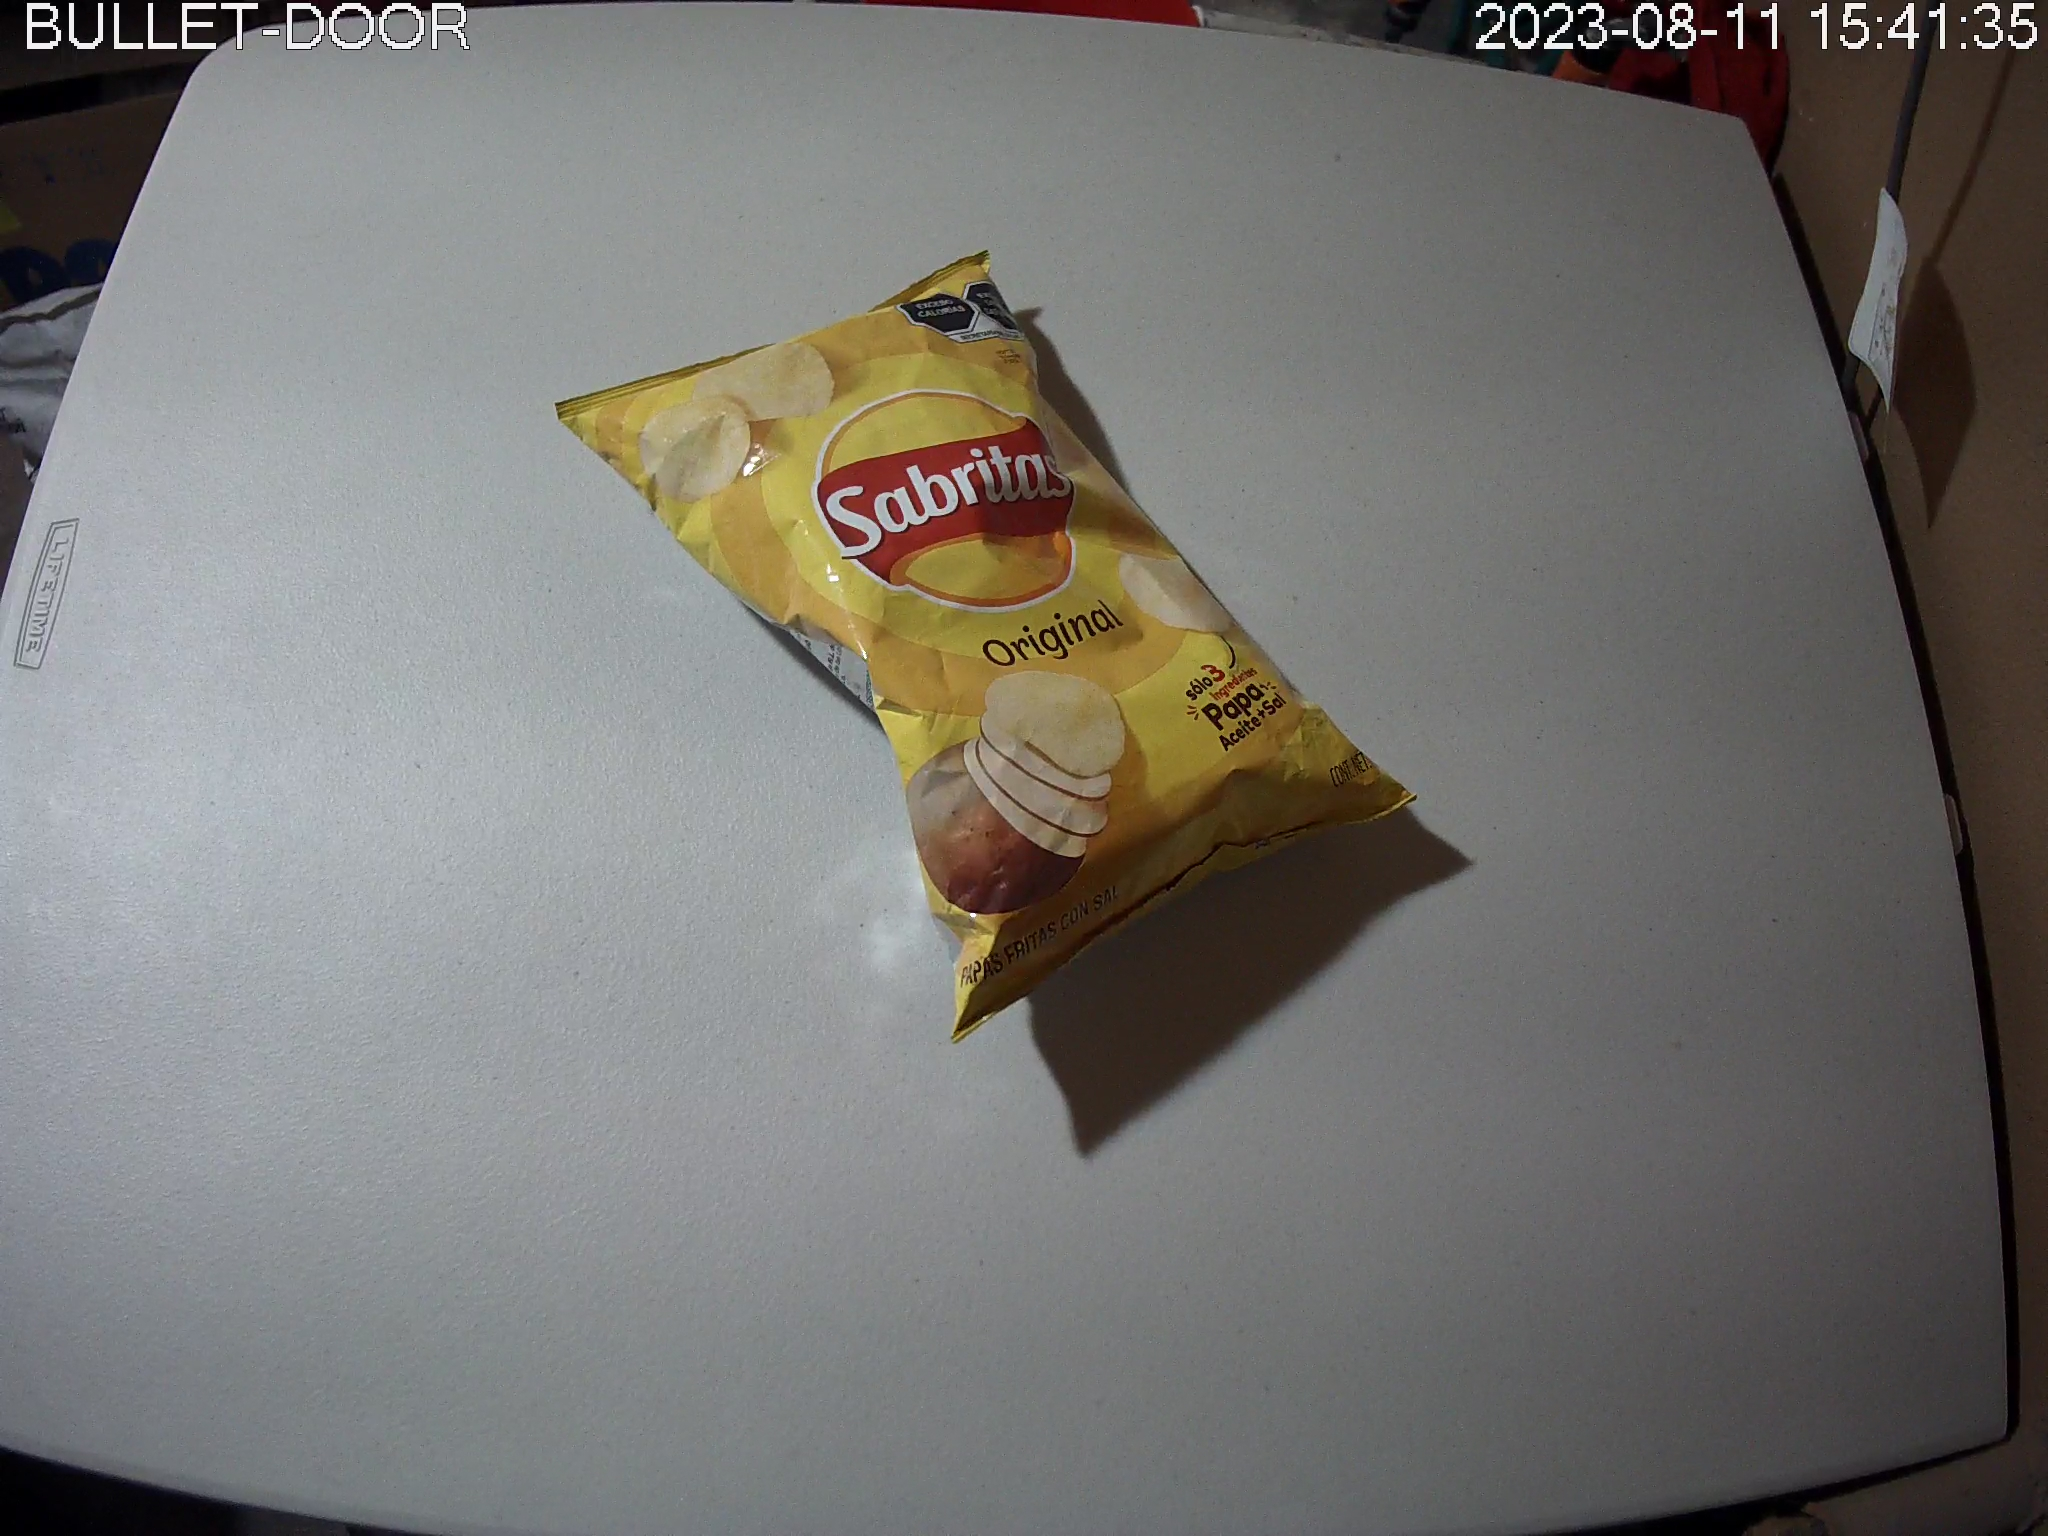Sabritas_160_F: (553, 248, 1422, 1046)
